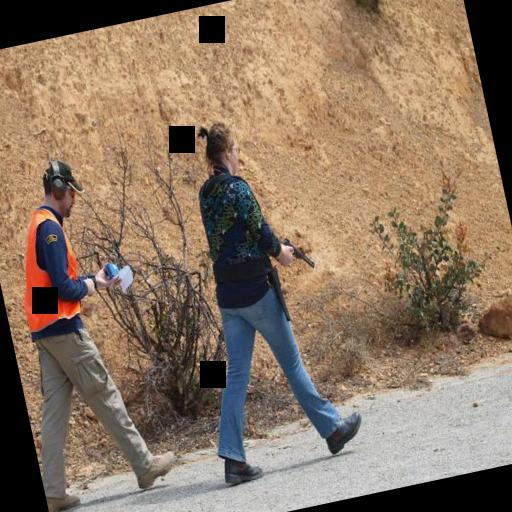Handgun: (277, 226, 316, 276)
